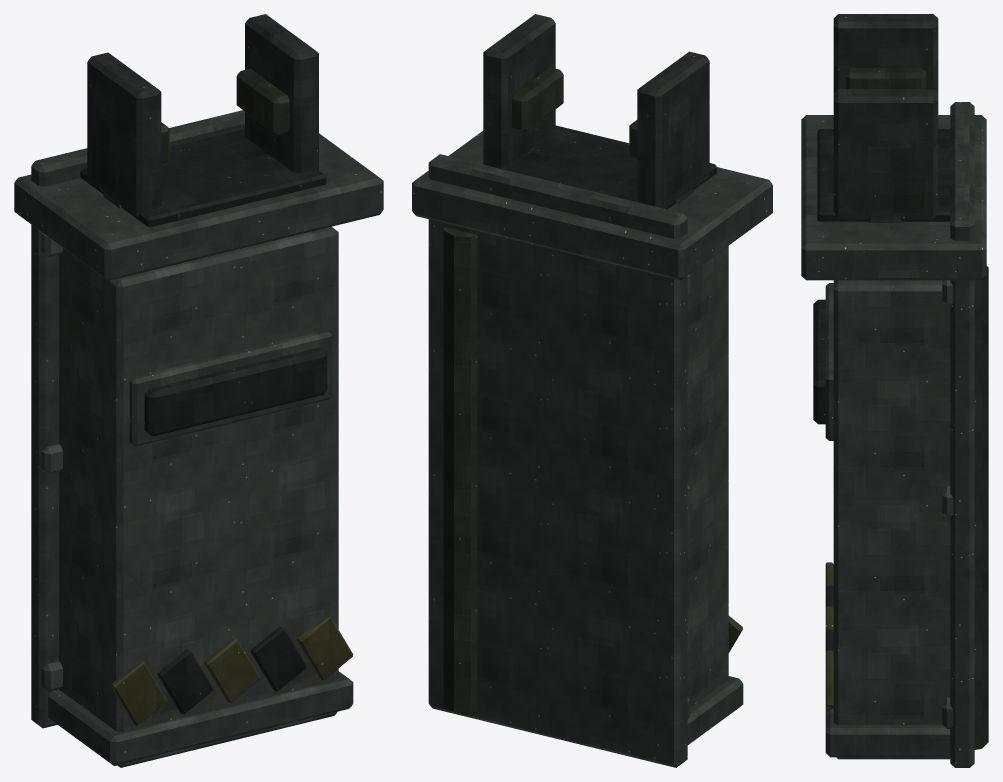
Rendered from cell_cradle.glb.
3 views of the same model, side by side, from view 1: azimuth 30°, elevation 25°; view 2: azimuth 150°, elevation 25°; view 3: azimuth 270°, elevation 25° (orthographic). The views are drawn at different scales.
Visible parts, largest first — view 1: cell_cradle; view 2: cell_cradle; view 3: cell_cradle.
Boxes of the visible parts, <box> form: cell_cradle: <box>14,14,383,767</box>; cell_cradle: <box>412,14,772,767</box>; cell_cradle: <box>801,14,988,767</box>.
Bounding box in the file's own units: 0.6972 × 1.6 × 0.4156.
1 material, 1 textured.
